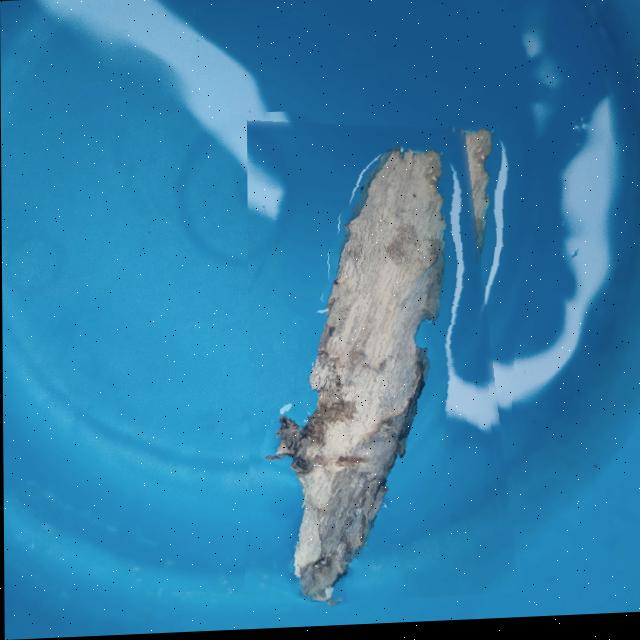wood: (247, 108, 522, 606)
